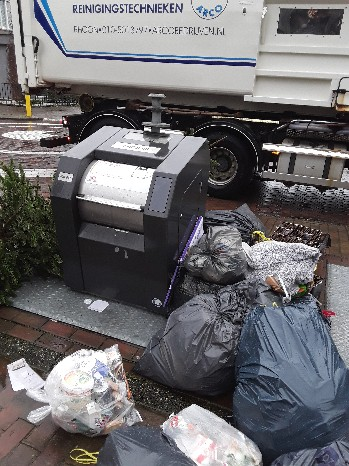Container: (43, 131, 199, 322)
Rest: (253, 315, 343, 450), (42, 349, 146, 437), (157, 303, 246, 399), (166, 405, 239, 461), (268, 248, 324, 303), (207, 231, 263, 285), (219, 195, 283, 242), (292, 218, 339, 258), (113, 440, 182, 466)
Voertuig: (50, 8, 343, 114)
